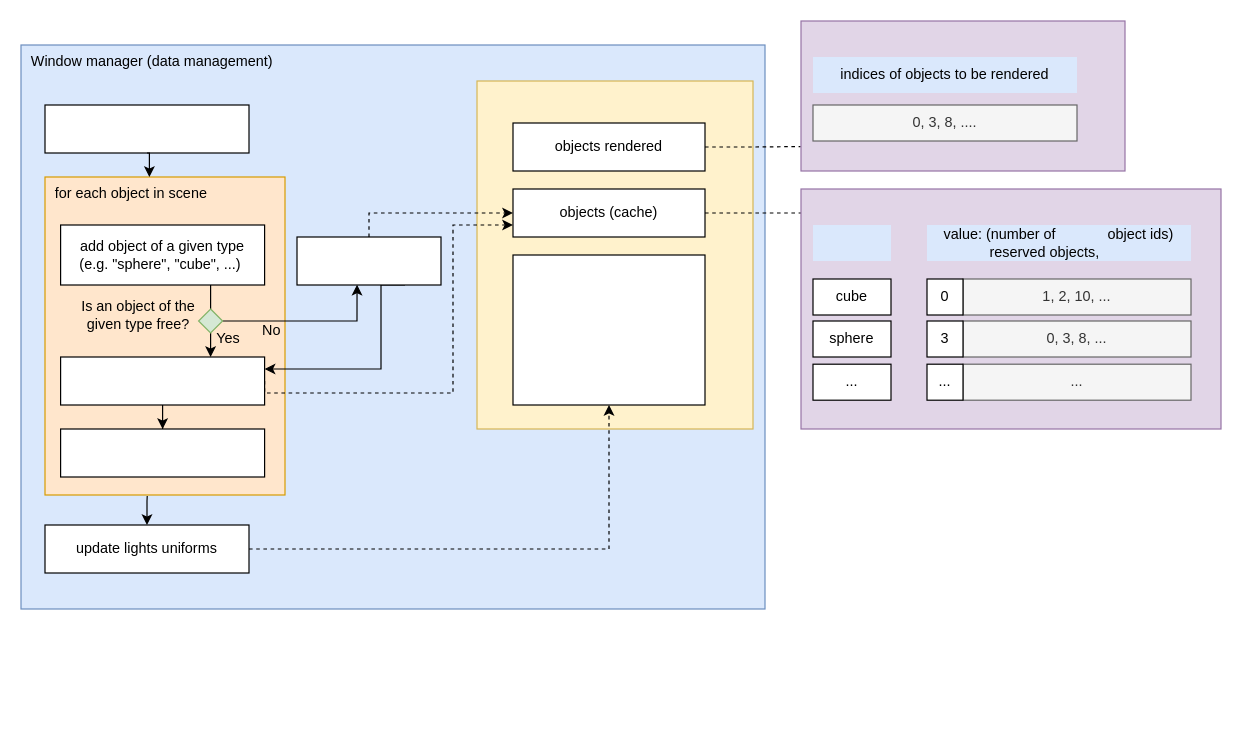
The diagram is 1242 pixels wide and 750 high, and some of its shapes have lost their labels. The box of each missing label's shape, as (x1, y1, x2, y2) in pixels:
add object to the list of rendered objects: (59, 428, 265, 477)
create object: (296, 236, 441, 285)
data: (476, 80, 753, 429)
default uniforms mouse lights, lights number screen size time rotation: (512, 254, 705, 405)
key: type: (812, 224, 890, 260)
object cache (hashmap): (800, 188, 1221, 429)
objects rendered (list): (800, 20, 1125, 171)
reserve object: (59, 356, 265, 405)
select scene: (44, 104, 249, 153)
